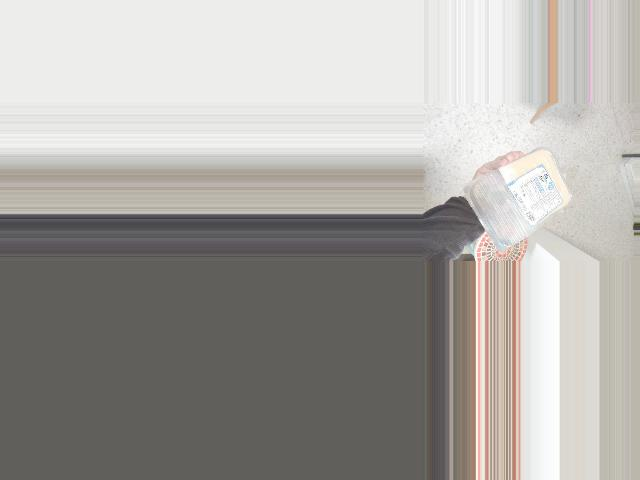cheese: (470, 158, 579, 248)
